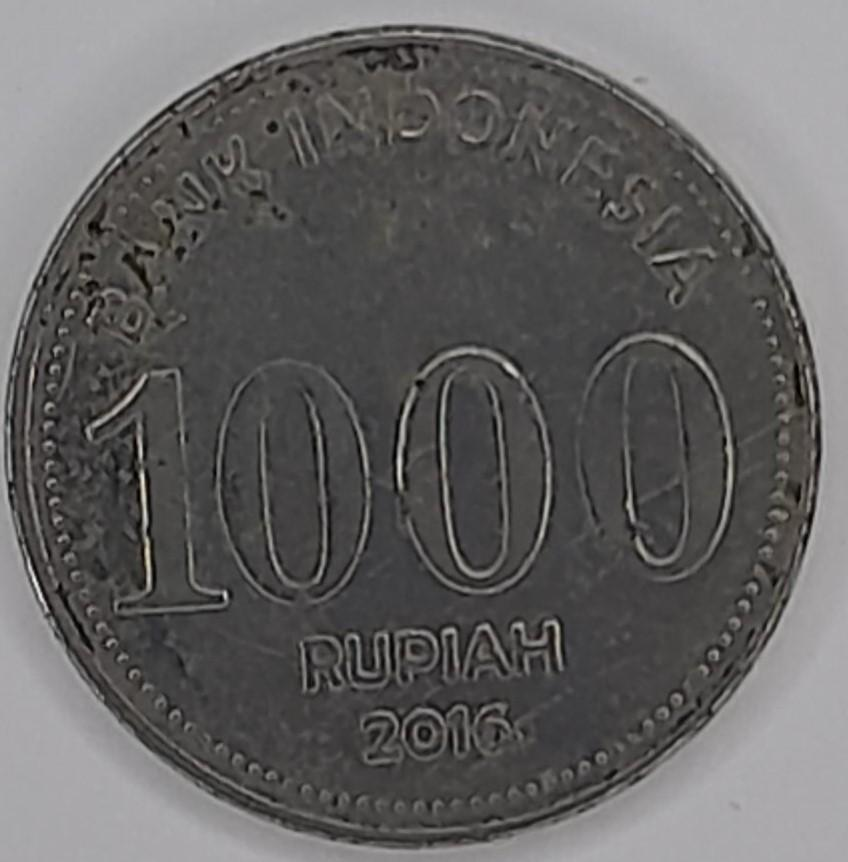coin_1000_e2016: (14, 17, 837, 862)
